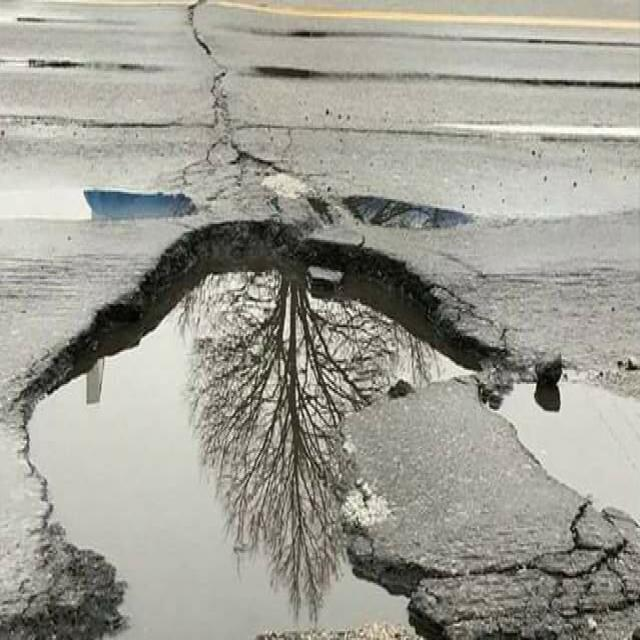Pothole: (12, 176, 592, 640)
